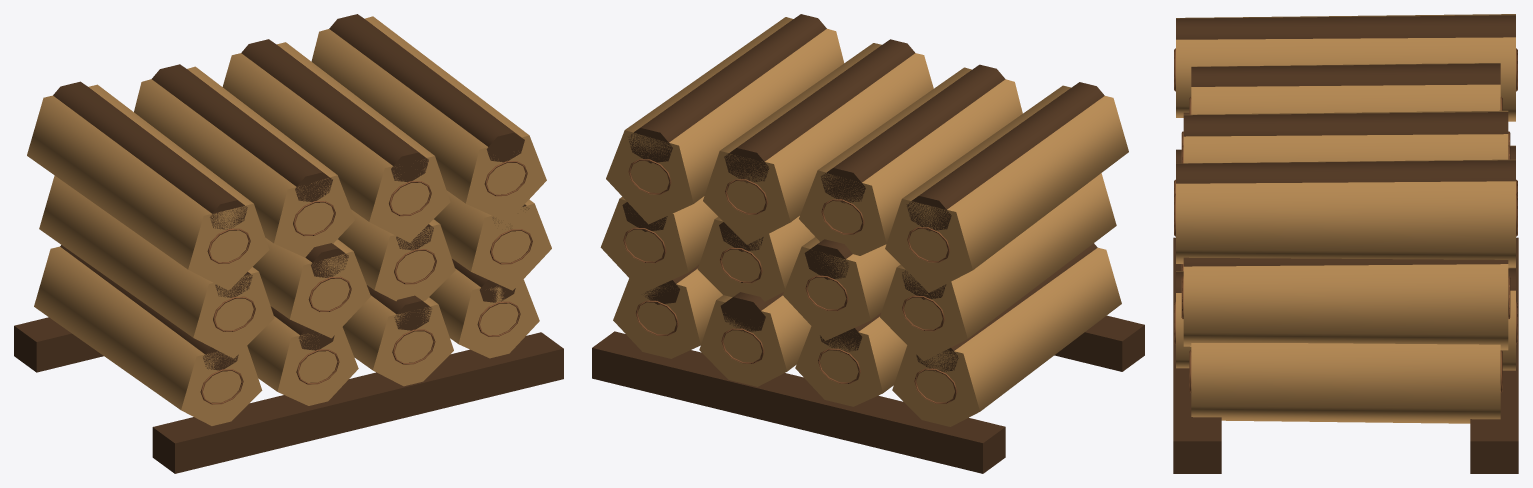
The model's file is LV_CUI_XEP_01.glb.
3 views of the same model, side by side, from view 1: azimuth 30°, elevation 25°; view 2: azimuth 150°, elevation 25°; view 3: azimuth 270°, elevation 25° (orthographic). The views are drawn at different scales.
Visible parts, largest first — view 1: LV_CUI_XEP_01-surface-b68850, LV_CUI_XEP_01-surface-50351f, LV_CUI_XEP_01-surface-825331; view 2: LV_CUI_XEP_01-surface-b68850, LV_CUI_XEP_01-surface-50351f, LV_CUI_XEP_01-surface-825331; view 3: LV_CUI_XEP_01-surface-b68850, LV_CUI_XEP_01-surface-50351f, LV_CUI_XEP_01-surface-825331.
Part boxes in pixels (left/top/right/bottom): LV_CUI_XEP_01-surface-b68850: left=27, top=16, right=551, bottom=425; LV_CUI_XEP_01-surface-50351f: left=14, top=14, right=563, bottom=473; LV_CUI_XEP_01-surface-825331: left=200, top=161, right=532, bottom=404; LV_CUI_XEP_01-surface-b68850: left=600, top=17, right=1128, bottom=426; LV_CUI_XEP_01-surface-50351f: left=592, top=14, right=1144, bottom=473; LV_CUI_XEP_01-surface-825331: left=623, top=159, right=957, bottom=403; LV_CUI_XEP_01-surface-b68850: left=1176, top=14, right=1515, bottom=423; LV_CUI_XEP_01-surface-50351f: left=1173, top=15, right=1518, bottom=473; LV_CUI_XEP_01-surface-825331: left=1174, top=48, right=1517, bottom=392.
Bounding box in the file's own units: 1.2 × 0.7659 × 0.86.
